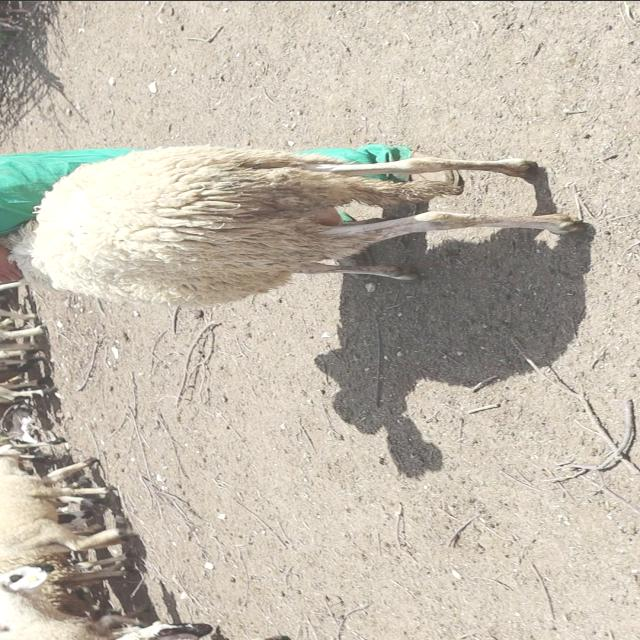Score_5: (8, 145, 581, 306)
